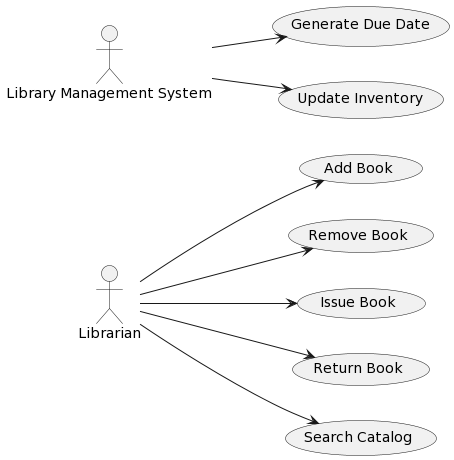actor: (94, 20, 128, 87), (93, 263, 128, 327)
association: (137, 178, 325, 282), (140, 323, 319, 424), (141, 309, 316, 361), (141, 245, 318, 295), (140, 297, 299, 311), (211, 77, 294, 95), (211, 32, 286, 51)
text: (4, 84, 217, 105), (292, 89, 426, 108), (287, 16, 434, 33), (305, 226, 420, 246), (300, 428, 414, 448), (311, 359, 407, 377), (316, 294, 406, 311), (321, 159, 396, 177), (74, 325, 144, 344)
use_case: (270, 4, 452, 49), (277, 79, 446, 120), (284, 418, 438, 459), (286, 217, 436, 255), (290, 352, 433, 387), (295, 286, 428, 320), (296, 152, 428, 185)
